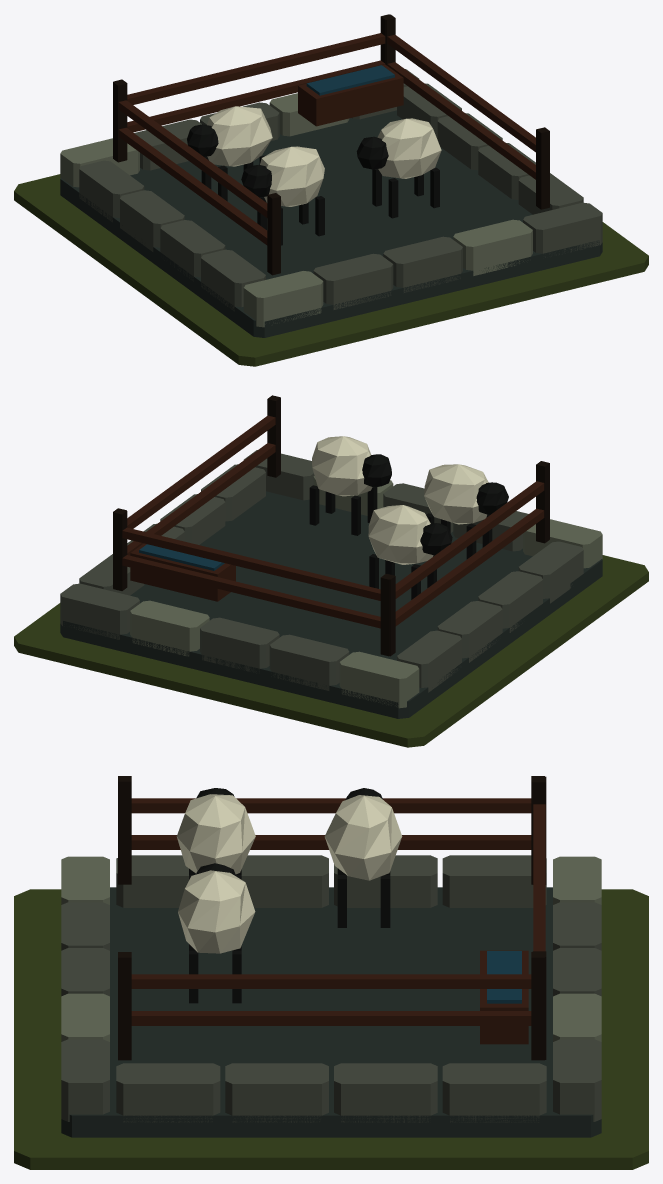
Rendered from pasture_t2.glb.
The picture shows the model from 3 angles, top to bottom: view 1: azimuth 30°, elevation 25°; view 2: azimuth 150°, elevation 25°; view 3: azimuth 270°, elevation 25°; orthographic projection. The views are drawn at different scales.
Parts seen in each view (by area): view 1: MMR | pasture | T02 Architecture.001, MMR | pasture | Tier 02 Ground.001; view 2: MMR | pasture | T02 Architecture.001, MMR | pasture | Tier 02 Ground.001; view 3: MMR | pasture | T02 Architecture.001, MMR | pasture | Tier 02 Ground.001.
Boxes of the visible parts, x1,y1,x2,y2 form: MMR | pasture | T02 Architecture.001: (60, 14, 602, 337); MMR | pasture | Tier 02 Ground.001: (14, 174, 648, 366); MMR | pasture | T02 Architecture.001: (60, 395, 602, 718); MMR | pasture | Tier 02 Ground.001: (14, 555, 648, 747); MMR | pasture | T02 Architecture.001: (61, 776, 601, 1137); MMR | pasture | Tier 02 Ground.001: (14, 889, 648, 1169).
Bounding box in the file's own units: 2.35 × 0.755 × 2.35.
1 material, 1 textured.
